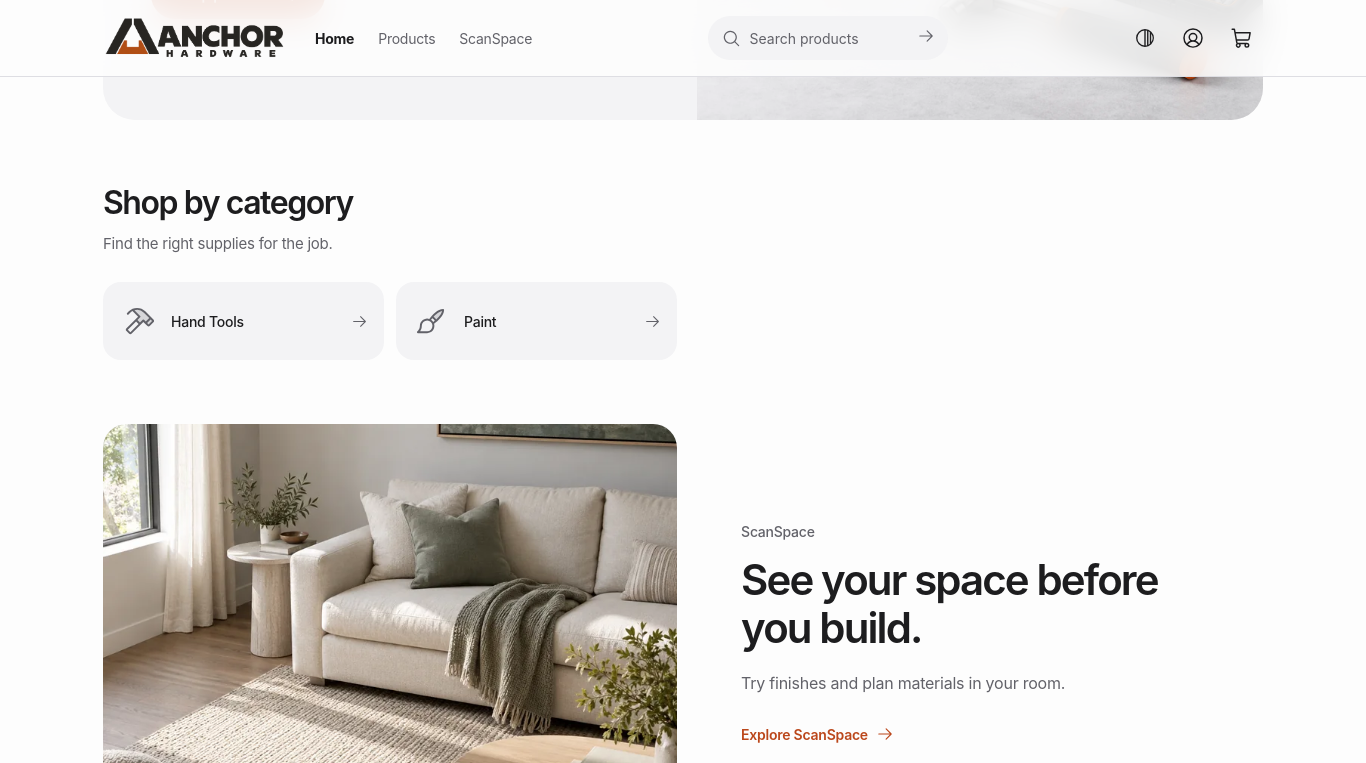
it: a Home category opens matching Products and clearing filters removes the URL filter
(page scrolled)
Click the link "Paint" at point(431, 321), box [396, 282, 677, 360]
(page scrolled)
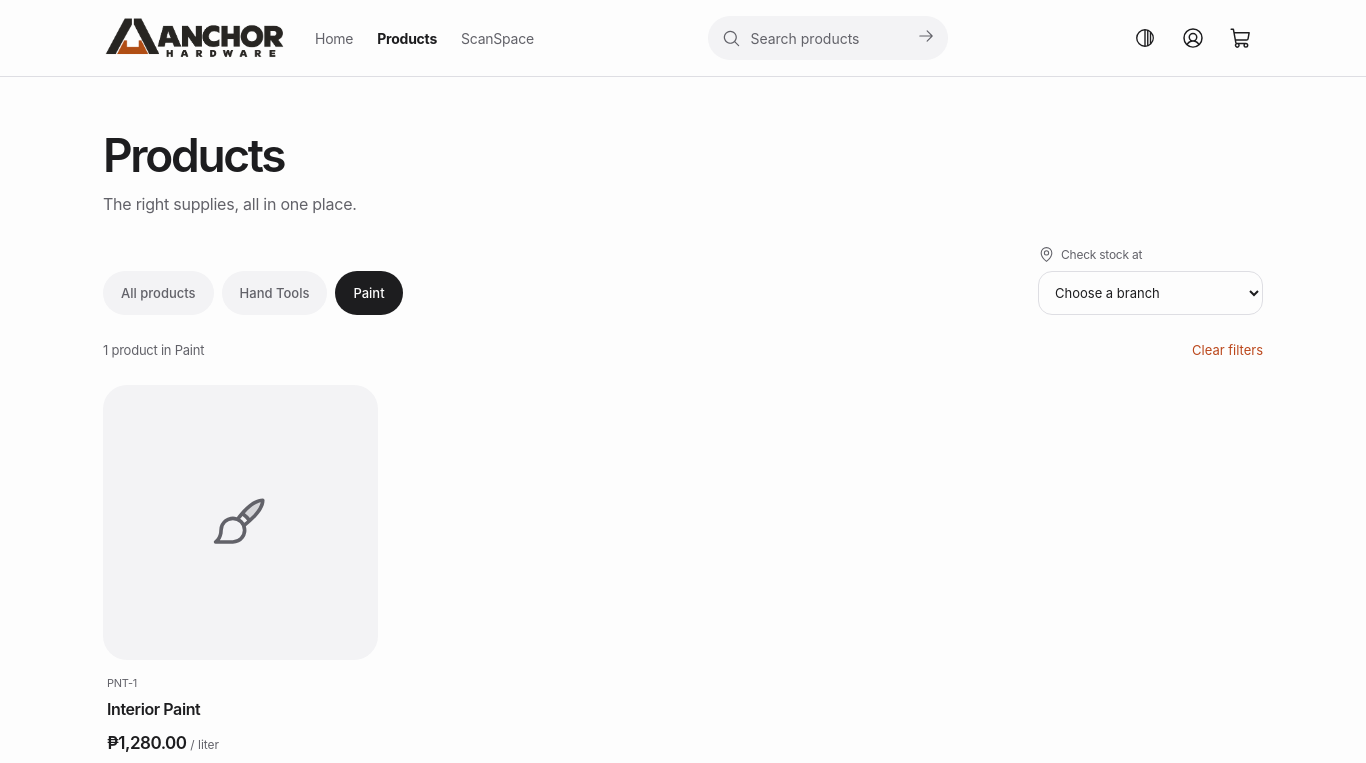
Check: the heading "Steel Claw Hammer" is not shown
Check: the heading "Interior Paint" is shown, box [107, 699, 200, 719]
Click the button "Clear filters" at point(1228, 350), box [1192, 328, 1263, 372]
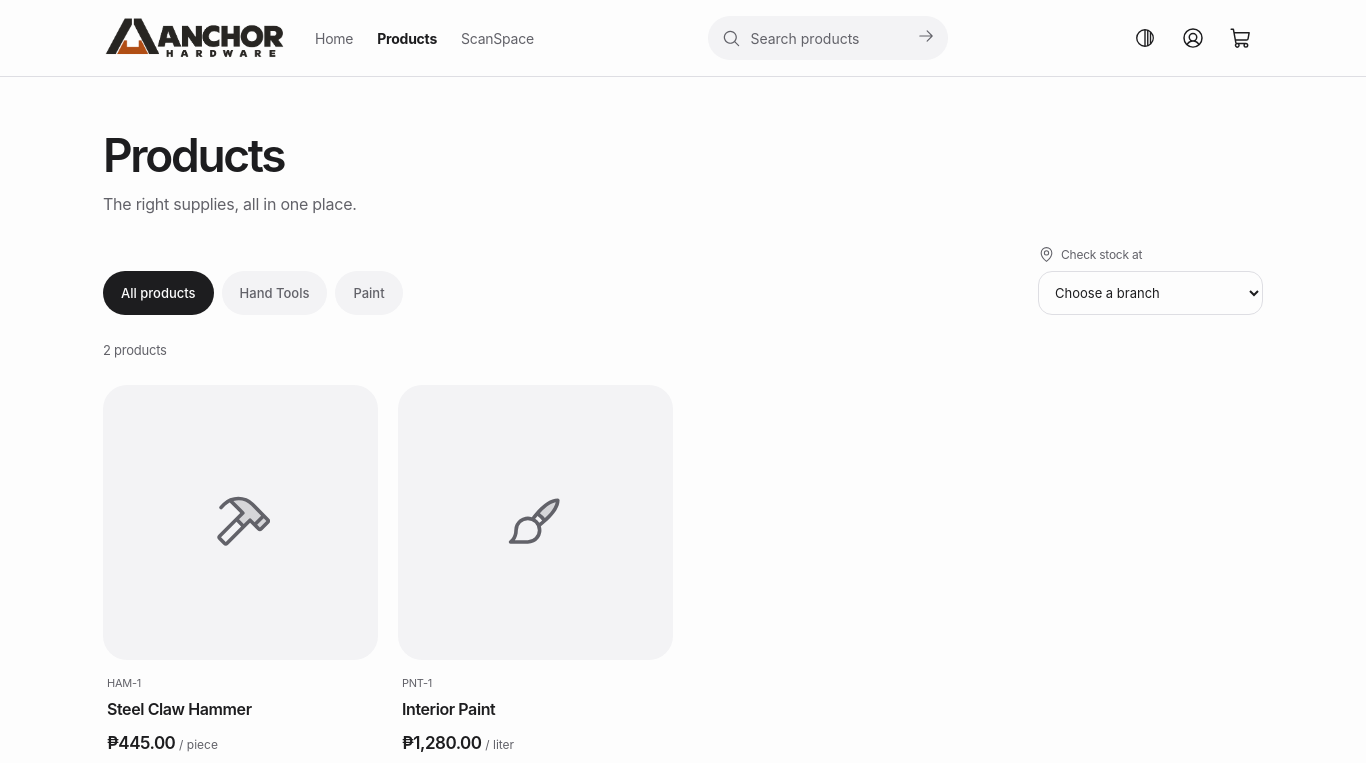
Check: the heading "Steel Claw Hammer" is shown, box [107, 699, 252, 719]
